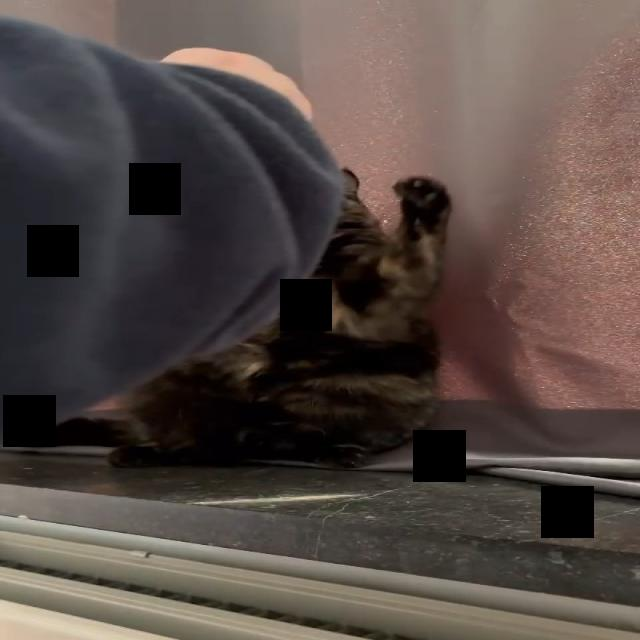authorized: (16, 166, 453, 469)
